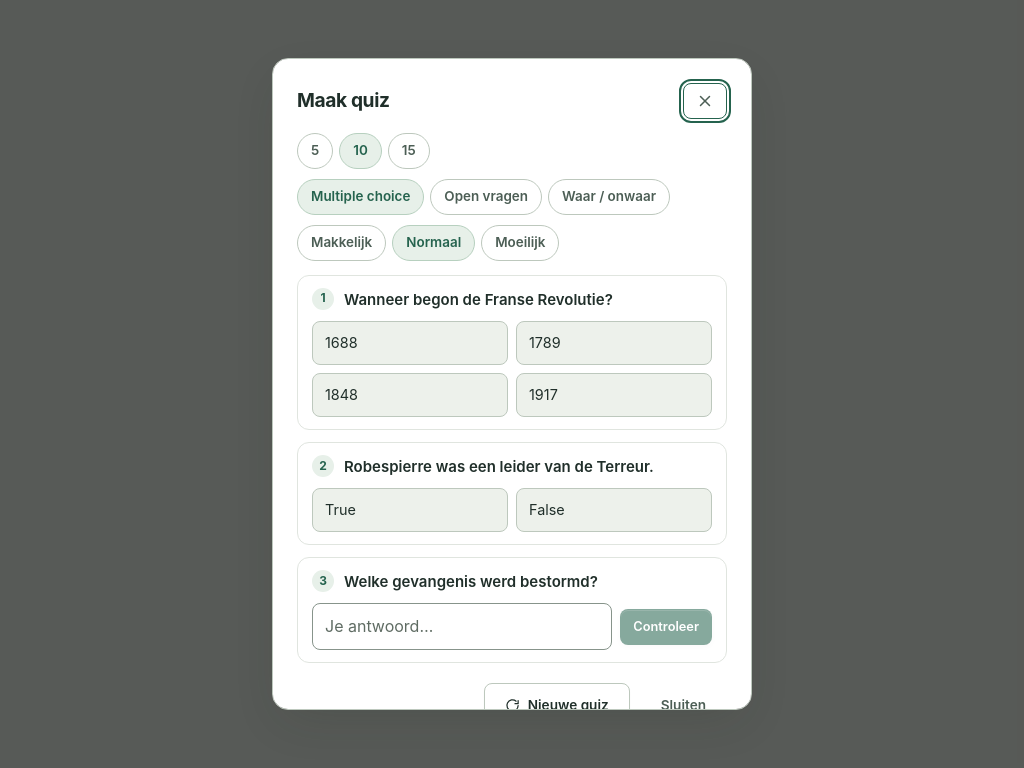
Scenario: AiQuizModal › scores a multiple choice answer and shows the explanation
Expected: the text "Wanneer begon de Franse Revolutie?" is shown, [344,290,613,309]
What coordinates should you click on to do the following:
click the button "1789"
I would click on:
 (614, 343)
Its box is [516,321,712,365].
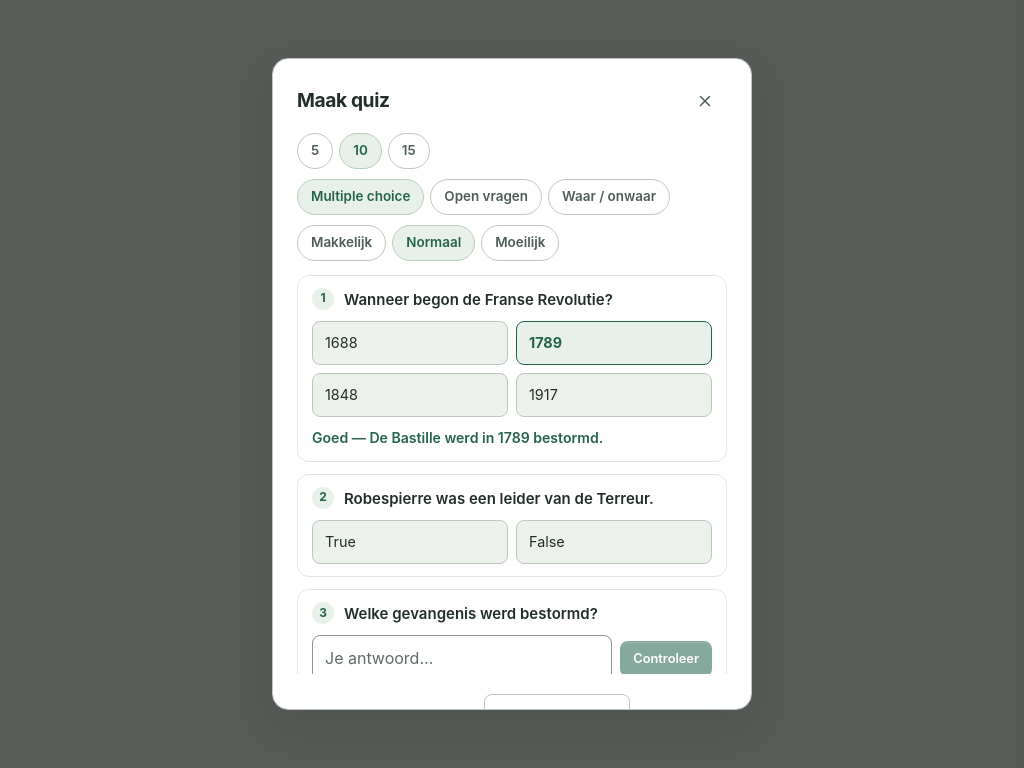
Result: the text "Goed — De Bastille werd in 1789 bestormd." is shown at [312,429,603,446]
Result: the button "1789" is disabled at [516,321,712,365]
